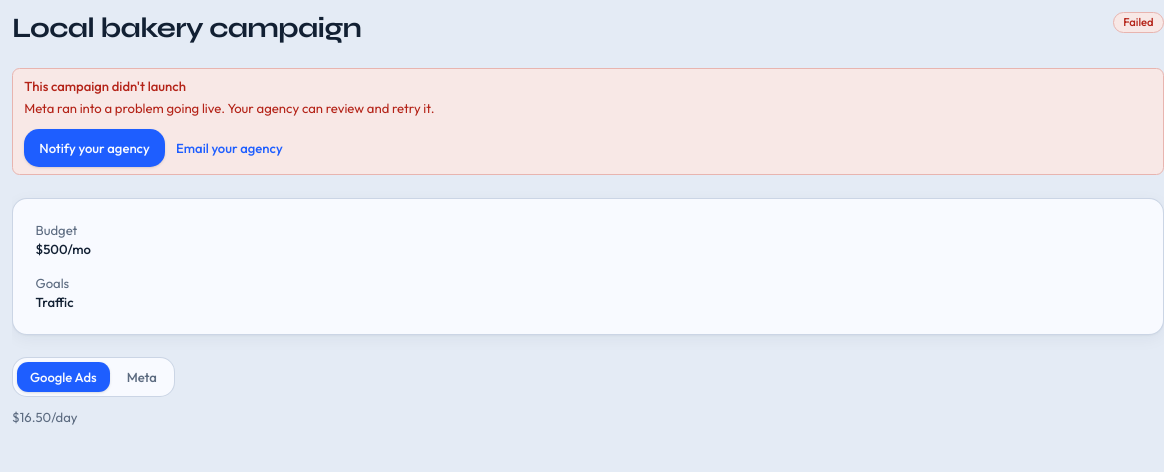
ClientPortalCampaignDetailPage › lets the client notify their agency about a failed launch
The image size is (1164, 472).
Click the button "Notify your agency" at [95, 148], box x1=24 y1=129 x2=165 y2=167
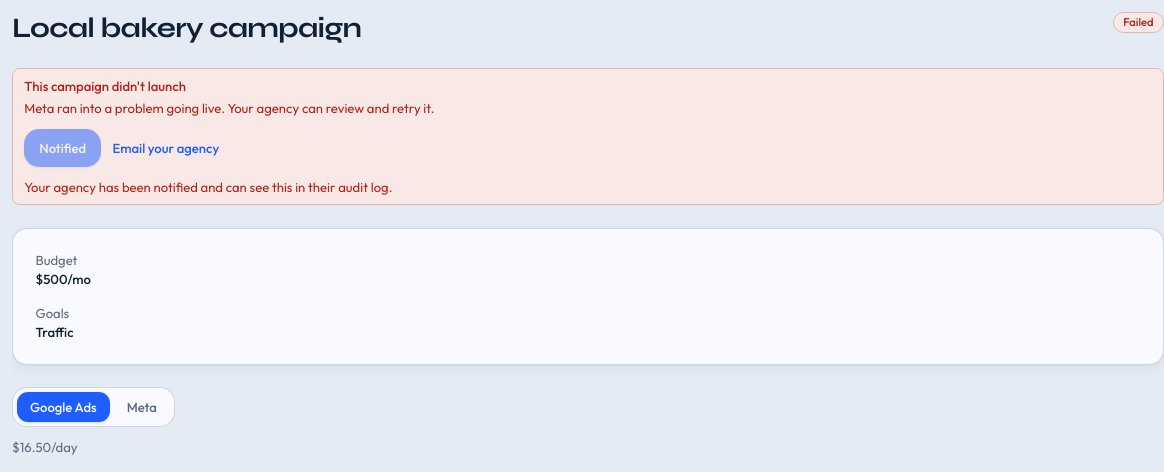
Now the text "agency has been notified" is shown, box x1=24 y1=179 x2=392 y2=195
